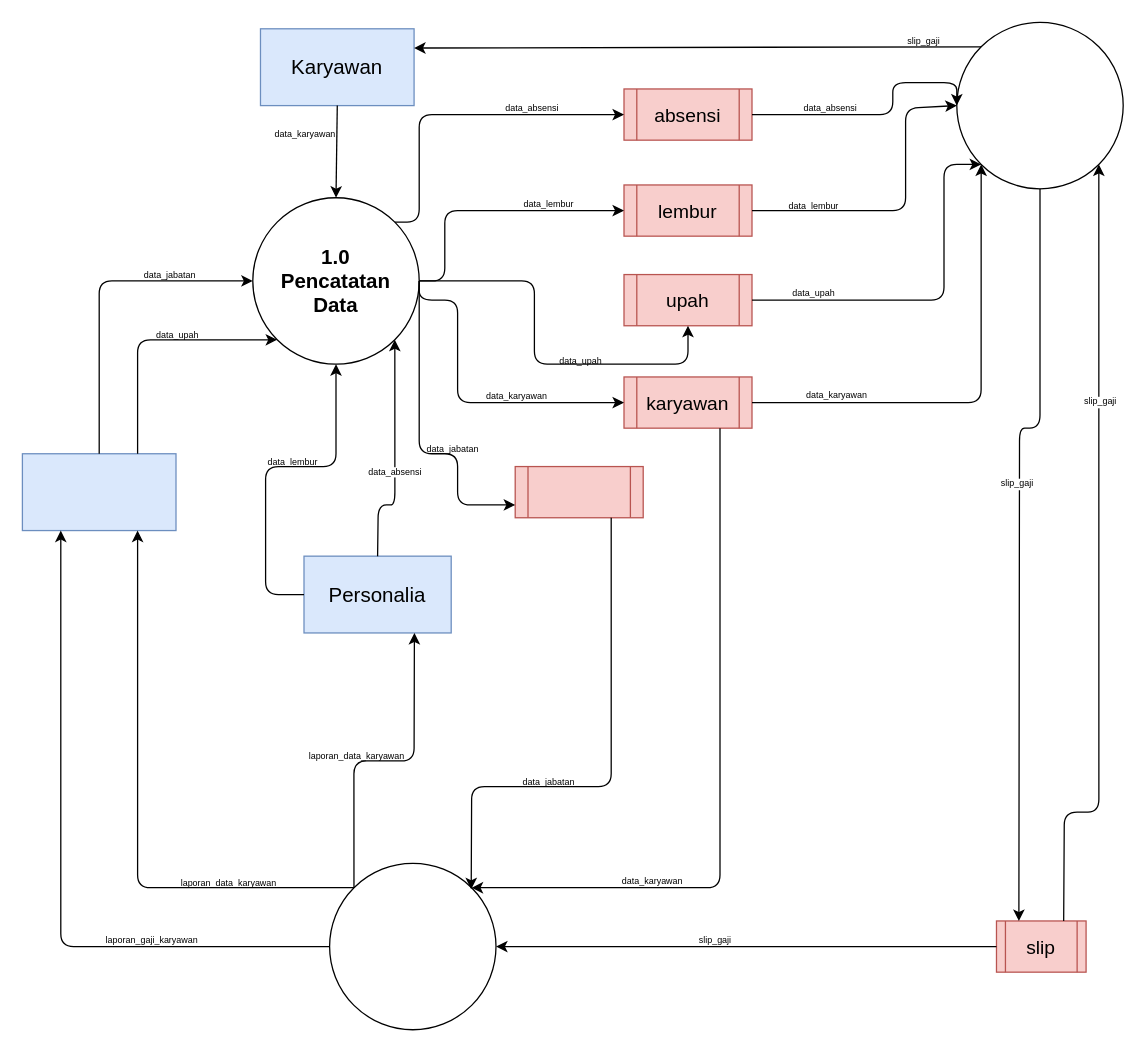
Image size: 1146x1052. Some labels were removed from this diagram. The shapes that lost their labels are listed below. From the top down, each one's centre as x and y in pixels, then its label:
At [1039,105]: "2.0 Perhitungan Gaji".
At [98,491]: "Direktur".
At [578,491]: "jabatan".
At [412,946]: "3.0 Pembuatan Laporan".
